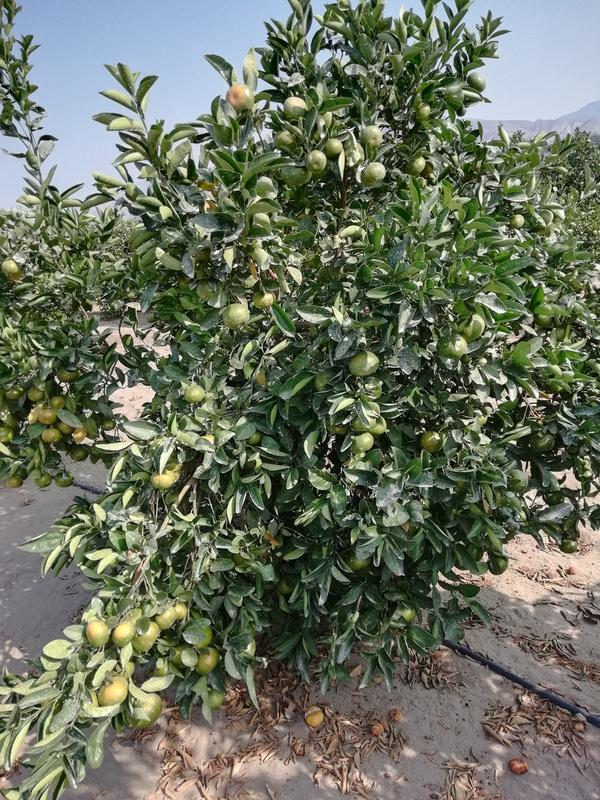mandarina verde: (130, 693, 163, 729), (96, 676, 128, 705), (226, 83, 254, 111), (349, 351, 380, 376), (436, 334, 468, 358), (223, 302, 250, 330), (360, 162, 386, 188), (86, 620, 110, 648), (138, 622, 159, 652), (112, 621, 136, 647), (197, 647, 219, 674), (305, 150, 327, 174), (283, 96, 307, 118), (360, 125, 383, 147), (351, 433, 374, 454), (252, 289, 276, 309), (420, 431, 442, 452), (158, 607, 177, 630), (184, 385, 207, 404), (151, 470, 175, 488), (405, 155, 426, 175), (508, 470, 527, 491), (2, 259, 20, 281), (467, 71, 486, 91), (207, 689, 226, 709), (59, 367, 80, 383), (325, 138, 343, 156), (27, 385, 45, 402), (55, 472, 74, 488), (42, 429, 62, 443), (39, 410, 57, 424), (560, 540, 578, 554), (69, 448, 88, 461), (510, 213, 525, 229), (35, 474, 52, 488), (176, 601, 188, 619), (50, 396, 64, 409), (101, 418, 115, 431), (7, 476, 22, 488)
